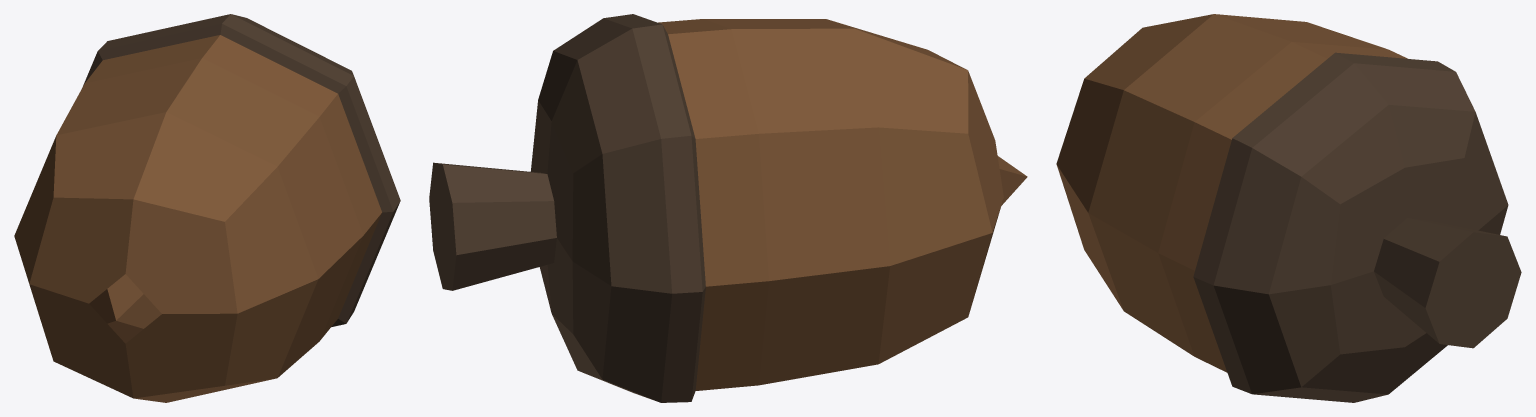
The model's file is dotori7.gltf.
The picture shows the model from 3 angles, left to right: view 1: azimuth 30°, elevation 25°; view 2: azimuth 150°, elevation 25°; view 3: azimuth 270°, elevation 25°; orthographic projection. The views are drawn at different scales.
Visible parts, largest first — view 1: Cube.005_Cube.011, Cube.006_Cube.011; view 2: Cube.005_Cube.011, Cube.006_Cube.011; view 3: Cube.006_Cube.011, Cube.005_Cube.011.
Boxes of the visible parts, x1,y1,x2,y2 form: Cube.005_Cube.011: (14,35,381,402); Cube.006_Cube.011: (83,14,400,326); Cube.005_Cube.011: (658,19,1027,390); Cube.006_Cube.011: (429,14,705,402); Cube.006_Cube.011: (1193,52,1521,402); Cube.005_Cube.011: (1056,14,1407,372).
Size of the model in its own units: 2.66 by 2.04 by 2.51.
